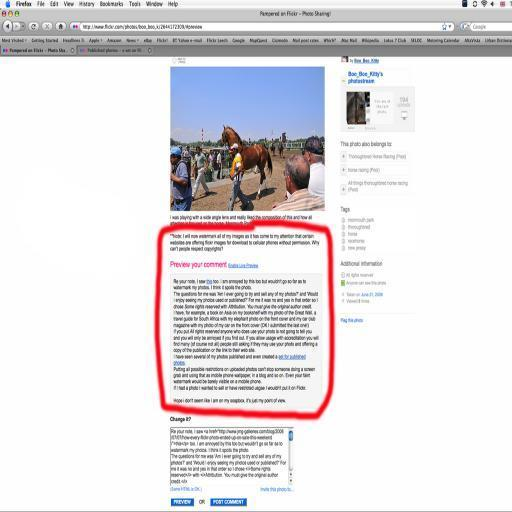horse: (218, 124, 274, 200), (278, 140, 284, 160), (270, 144, 275, 156)
